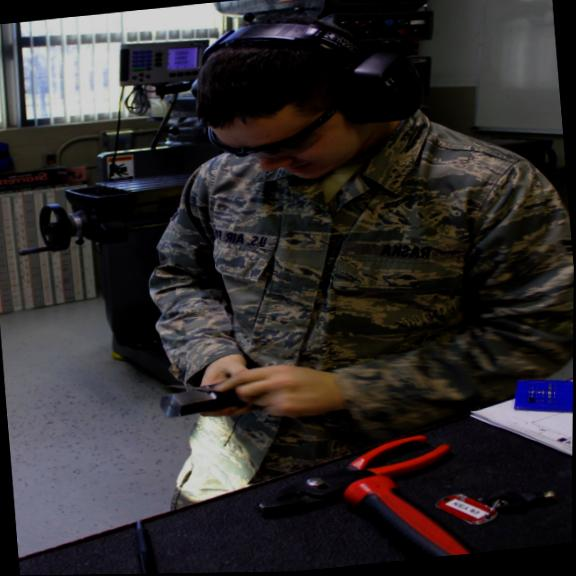no_safety_vest: (126, 99, 574, 451)
